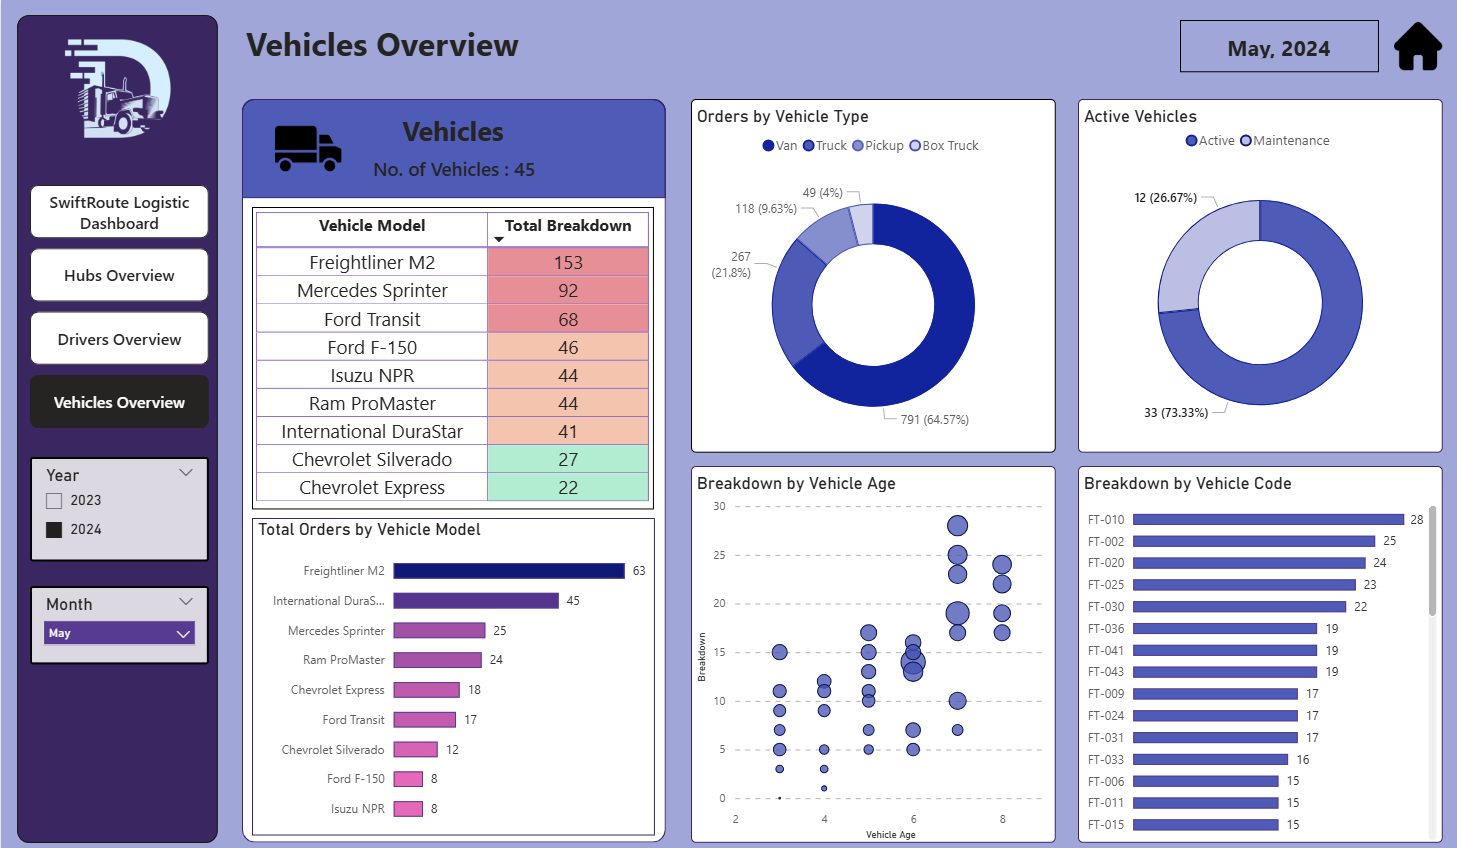

The dashboard page shown, as its layout file describes it:
{"tool":"powerbi","page":{"name":"Vehicles Overview","canvas":[1450,850],"ordinal":3},"visuals":[{"type":"shape","box":[16.2,16.2,199.9,823.9],"z":0},{"type":"group","id":"g1","title":"Section drivers","box":[240,100,421.8,740.4],"z":0,"group":"g2"},{"type":"shape","box":[240,100,421.7,739.9],"z":0,"group":"g1"},{"type":"textbox","box":[239.2,16.5,727.8,58.8],"z":1000},{"type":"shape","box":[240,100,421.8,98.8],"z":1000,"group":"g2"},{"type":"cardVisual","fields":{"Data":["_Measure.Year Month Title"]},"box":[1173.2,20.6,197.9,51.5],"z":2000},{"type":"tableEx","fields":{"Values":["Vehicles.Vehicle Model","Sum(Vehicles.Breakdown)"]},"box":[250.4,207.3,399.8,301.3],"z":2000,"group":"g2"},{"type":"image","box":[28.6,28.6,177.1,128.6],"z":3000},{"type":"barChart","fields":{"Category":["Vehicles.Vehicle Model"],"Y":["_Measure.Total Orders"]},"box":[250.4,517.2,400.9,315.9],"z":3000,"group":"g2"},{"type":"textbox","box":[260,108,380,59],"z":4000,"group":"g2"},{"type":"slicer","fields":{"Values":["Date Table.Year"]},"box":[28.9,455.7,178.4,104.1],"z":4000},{"type":"cardVisual","fields":{"Data":["_Measure.No. of Vehicles"]},"box":[240,149,422,39],"z":5000,"group":"g2"},{"type":"slicer","fields":{"Values":["Date Table.Month Short"]},"box":[28.9,584.5,178.4,78.4],"z":5000},{"type":"image","box":[1386.6,20.6,48.5,51.5],"z":6000},{"type":"group","id":"g2","title":"Vehicle Section","box":[240,100,422,740.4],"z":7000},{"type":"scatterChart","title":"Breakdown by Vehicle Age","fields":{"X":["Vehicles.Vehicle Age"],"Y":["Vehicles.Breakdown"],"Size":["Sum(Vehicles.Breakdown)1"]},"box":[686.6,464.9,362.9,375.3],"z":8000},{"type":"barChart","title":"Breakdown by Vehicle Code","fields":{"Y":["Sum(Vehicles.Breakdown)"],"Category":["Vehicles.Vehicle Code"]},"box":[1072.2,464.9,362.9,375.3],"z":9000},{"type":"donutChart","title":"Active Vehicles","fields":{"Category":["Vehicles.Vehicle Status"],"Y":["CountNonNull(Vehicles.Vehicle ID)"]},"box":[1072.2,100,362.9,351.5],"z":10000},{"type":"donutChart","title":"Orders by Vehicle Type","fields":{"Category":["Orders.Vehicle Type"],"Y":["_Measure.Total Orders"]},"box":[686.6,100,362.9,351.5],"z":11000},{"type":"pageNavigator","box":[28.9,185.6,178.4,242.3],"z":12000},{"type":"image","box":[266.3,115.6,77.7,66.6],"z":12001}]}

Visuals, with their boxes in screenshot pixels (x1, y1, x2, y2), scaled from the page's 1450x850 canvas onto the 1457x848 screenshot:
shape: 16 16 217 838
"Section drivers" group: 241 100 665 838
shape: 241 100 665 838
textbox: 240 16 972 75
shape: 241 100 665 198
cardVisual - _Measure.Year Month Title: 1179 21 1378 72
tableEx - Vehicles.Vehicle Model x Sum(Vehicles.Breakdown): 252 207 653 507
image: 29 29 207 157
barChart - Vehicles.Vehicle Model x _Measure.Total Orders: 252 516 654 831
textbox: 261 108 643 167
slicer - Date Table.Year: 29 455 208 558
cardVisual - _Measure.No. of Vehicles: 241 149 665 188
slicer - Date Table.Month Short: 29 583 208 661
image: 1393 21 1442 72
"Vehicle Section" group: 241 100 665 838
"Breakdown by Vehicle Age" scatterChart: 690 464 1055 838
"Breakdown by Vehicle Code" barChart: 1077 464 1442 838
"Active Vehicles" donutChart: 1077 100 1442 450
"Orders by Vehicle Type" donutChart: 690 100 1055 450
pageNavigator: 29 185 208 427
image: 268 115 346 182
